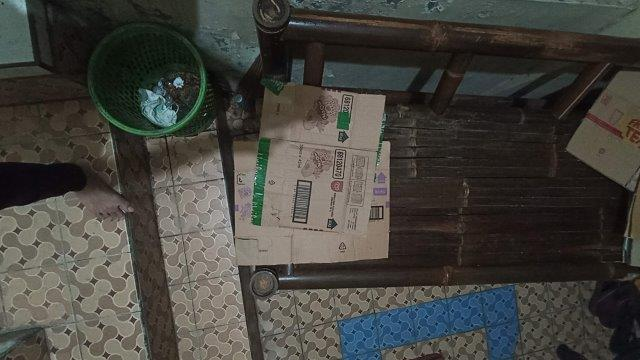kardus: (234, 83, 388, 266)
